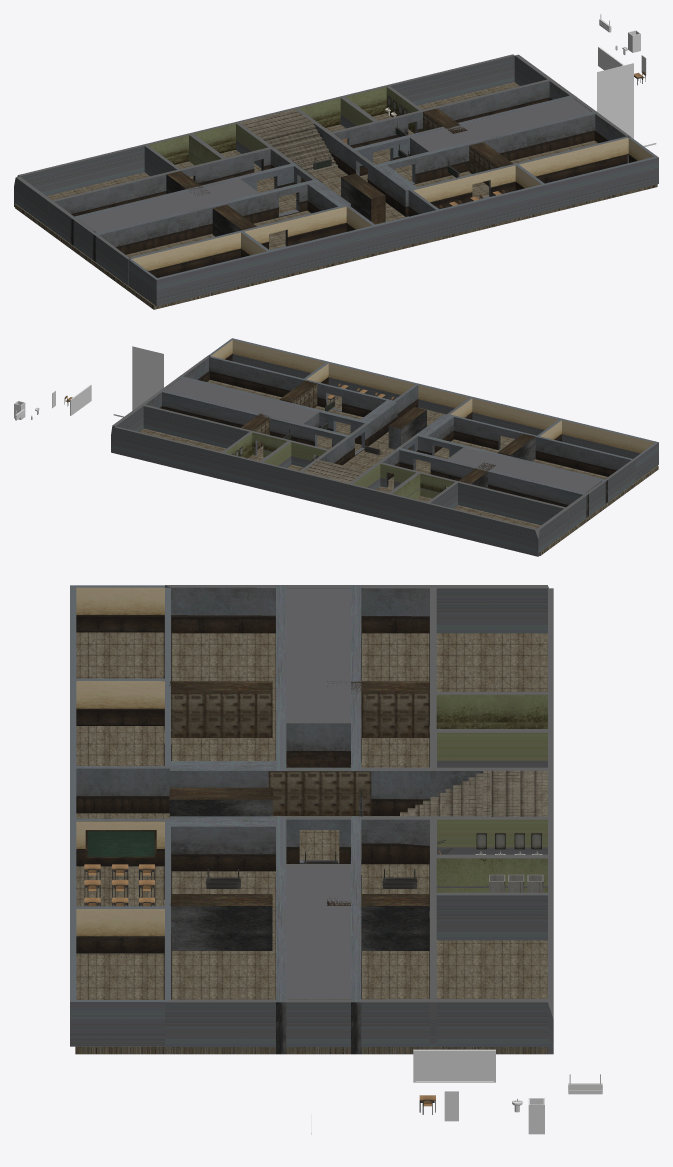
Rendered from Interior_Escuela.fbx.
The picture shows the model from 3 angles, top to bottom: view 1: azimuth 30°, elevation 25°; view 2: azimuth 150°, elevation 25°; view 3: azimuth 270°, elevation 25°; orthographic projection. The views are drawn at different scales.
Visible parts, largest first — view 1: Cube.004, Plane, Cube.005, Cube, Cube.001; view 2: Cube.004, Plane, Cube, Cube.005, Cube.001, Plane.002; view 3: Cube.004, Plane, Cube.005, Plane.002, Plane.012.
Boxes of the visible parts, x1=… form: Cube.004: x1=14, y1=54, x2=658, y2=306; Plane: x1=15, y1=82, x2=657, y2=309; Cube.005: x1=240, y1=109, x2=337, y2=173; Cube: x1=618, y1=63, x2=656, y2=146; Cube.001: x1=597, y1=67, x2=618, y2=127; Cube.004: x1=111, y1=338, x2=658, y2=556; Plane: x1=139, y1=380, x2=658, y2=555; Cube: x1=113, y1=346, x2=150, y2=417; Cube.005: x1=303, y1=460, x2=365, y2=483; Cube.001: x1=151, y1=351, x2=163, y2=396; Plane.002: x1=70, y1=385, x2=91, y2=415; Cube.004: x1=70, y1=585, x2=553, y2=1054; Plane: x1=75, y1=632, x2=547, y2=1054; Cube.005: x1=400, y1=770, x2=547, y2=816; Plane.002: x1=413, y1=1049, x2=495, y2=1082; Plane.012: x1=85, y1=830, x2=156, y2=858.
Size of the model in its own units: 23318 by 3111 by 10206.
